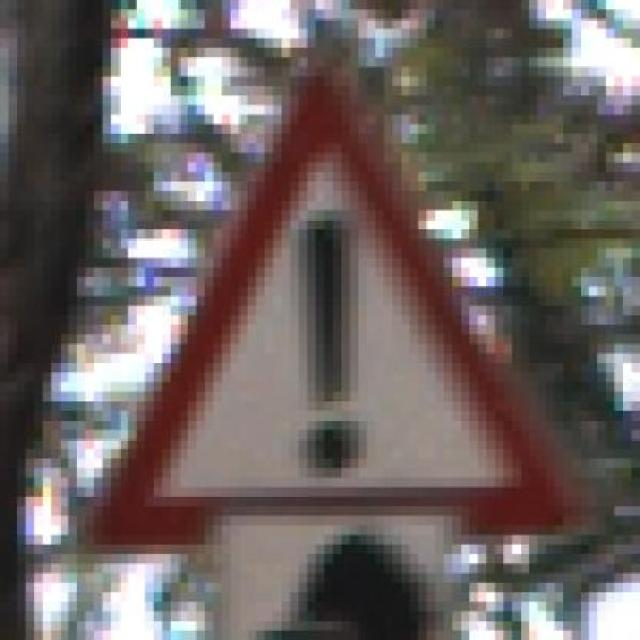Attention Please-: (59, 57, 581, 583)
